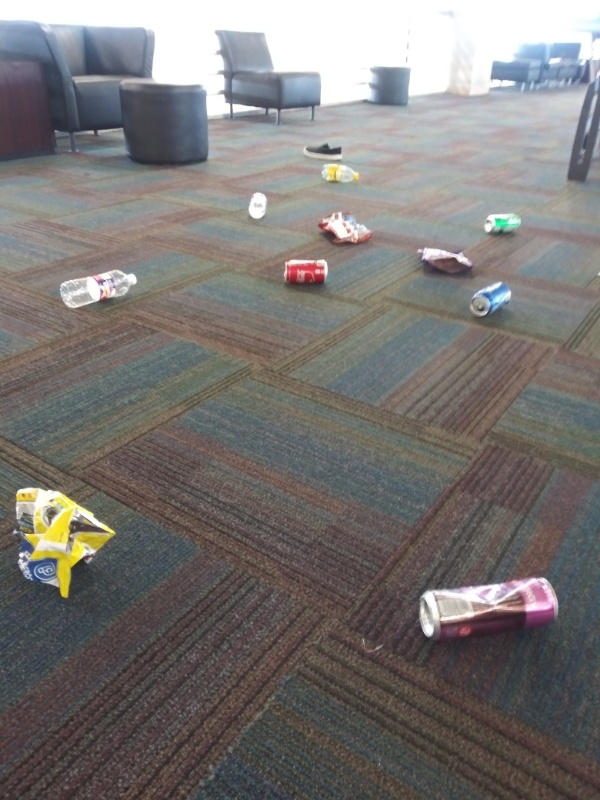bag: (10, 482, 121, 606), (315, 209, 378, 249), (412, 245, 477, 278)
bottle: (55, 266, 140, 314), (315, 160, 362, 186), (247, 189, 269, 222)
can: (418, 573, 562, 647), (468, 279, 514, 318), (281, 257, 331, 286), (480, 210, 526, 237)
